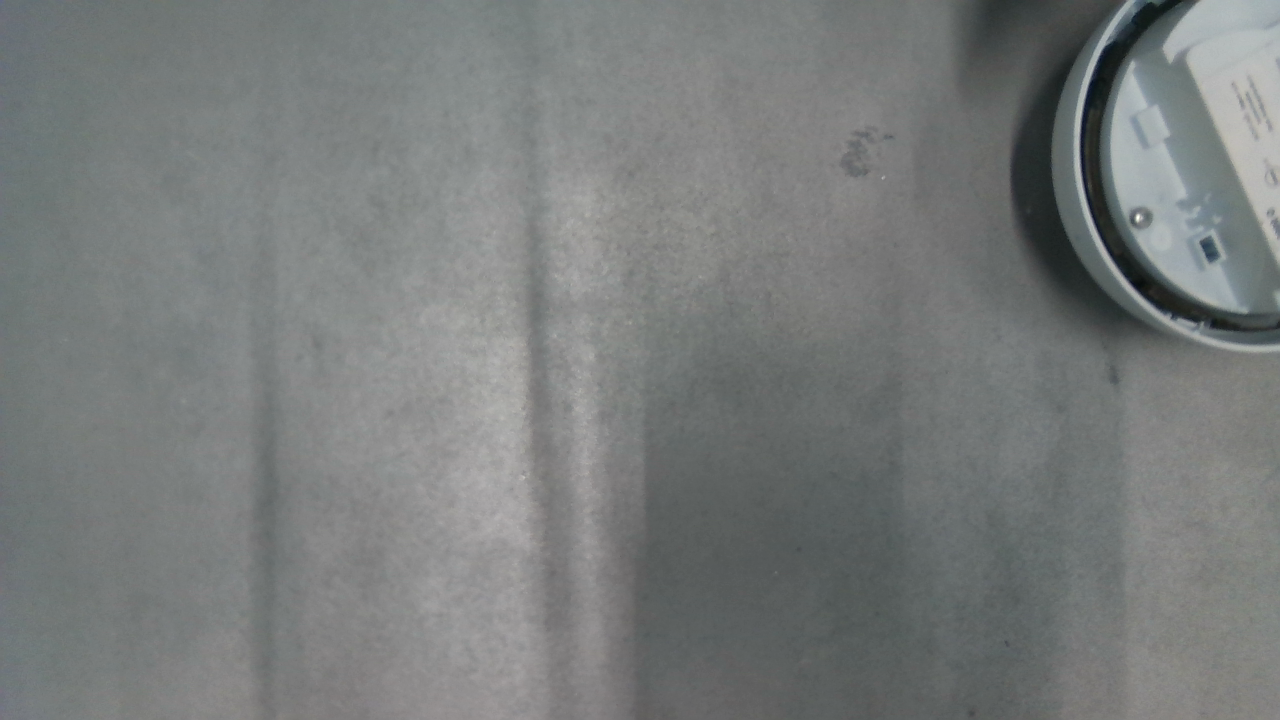HexScrew: (1133, 208, 1154, 229)
